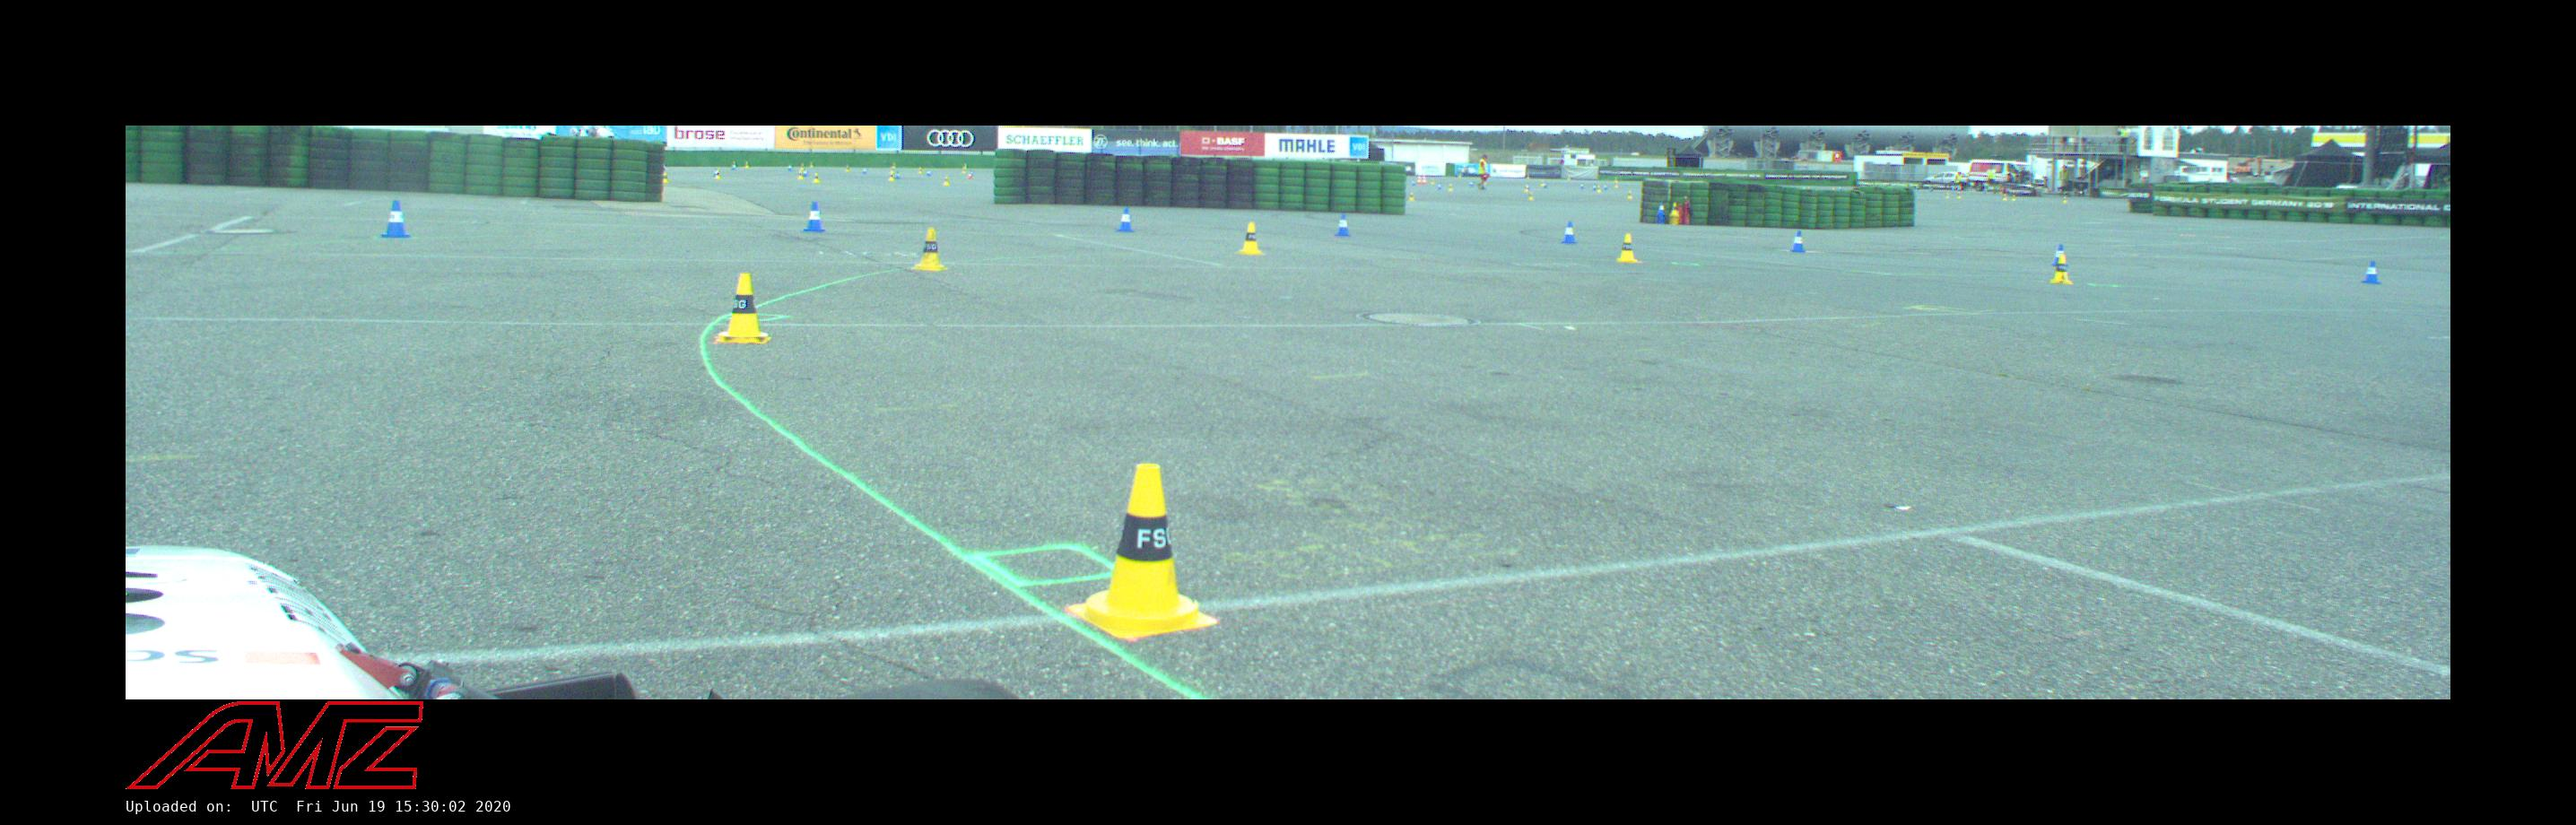blue_cone: (381, 200, 411, 238), (802, 202, 825, 232), (2362, 261, 2382, 284), (1117, 207, 1134, 232), (1334, 214, 1350, 237), (2052, 243, 2068, 266), (1561, 222, 1577, 243), (1791, 232, 1804, 251), (1603, 182, 1608, 191), (789, 164, 793, 171), (927, 171, 932, 176), (864, 168, 867, 174), (1580, 182, 1584, 189), (1438, 184, 1441, 189), (1470, 181, 1472, 186), (971, 171, 973, 176)
orange_cone: (968, 173, 973, 179)
yellow_cone: (1068, 463, 1217, 639), (716, 273, 772, 345), (913, 228, 948, 271), (1239, 222, 1265, 255), (2050, 256, 2073, 284), (1617, 233, 1638, 263), (813, 173, 821, 182), (889, 171, 895, 181), (943, 176, 950, 186), (1408, 192, 1415, 200), (798, 171, 805, 179), (1528, 192, 1534, 200), (665, 173, 670, 182), (1626, 192, 1633, 199), (716, 171, 721, 179), (1525, 186, 1529, 192), (744, 161, 749, 168), (1597, 186, 1602, 192), (963, 166, 968, 173), (918, 168, 923, 174), (1957, 192, 1962, 199), (846, 168, 851, 173), (1539, 181, 1544, 186), (808, 163, 813, 168), (1449, 184, 1452, 191), (1615, 181, 1618, 187), (802, 164, 805, 171), (892, 163, 895, 168)
